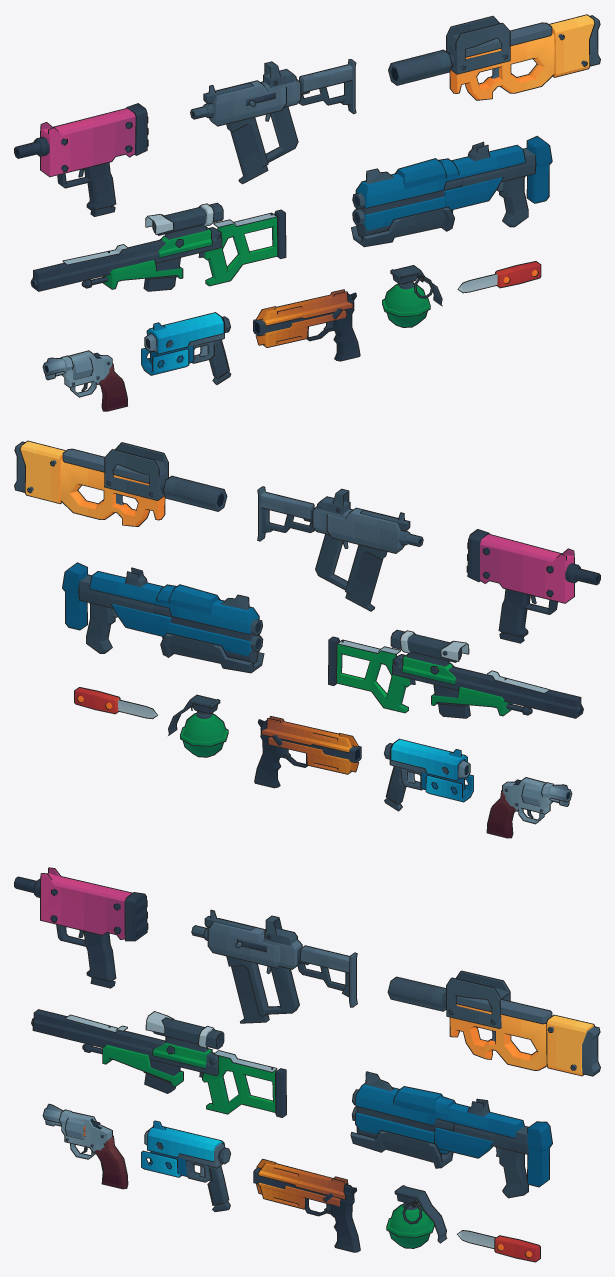
File: prop-toon-weapons.glb
The picture shows the model from 3 angles, top to bottom: view 1: azimuth 30°, elevation 25°; view 2: azimuth 150°, elevation 25°; view 3: azimuth 330°, elevation 25°; orthographic projection.
Parts seen in each view (by area): view 1: knife.001; view 2: knife.001; view 3: knife.001.
Boxes of the visible parts, bbox=[...] form: knife.001: bbox=[14, 14, 600, 411]; knife.001: bbox=[14, 440, 600, 838]; knife.001: bbox=[14, 867, 600, 1262].
Bounding box in the file's own units: 3.44 × 1.76 × 0.2584.
2 materials, 2 textured.
